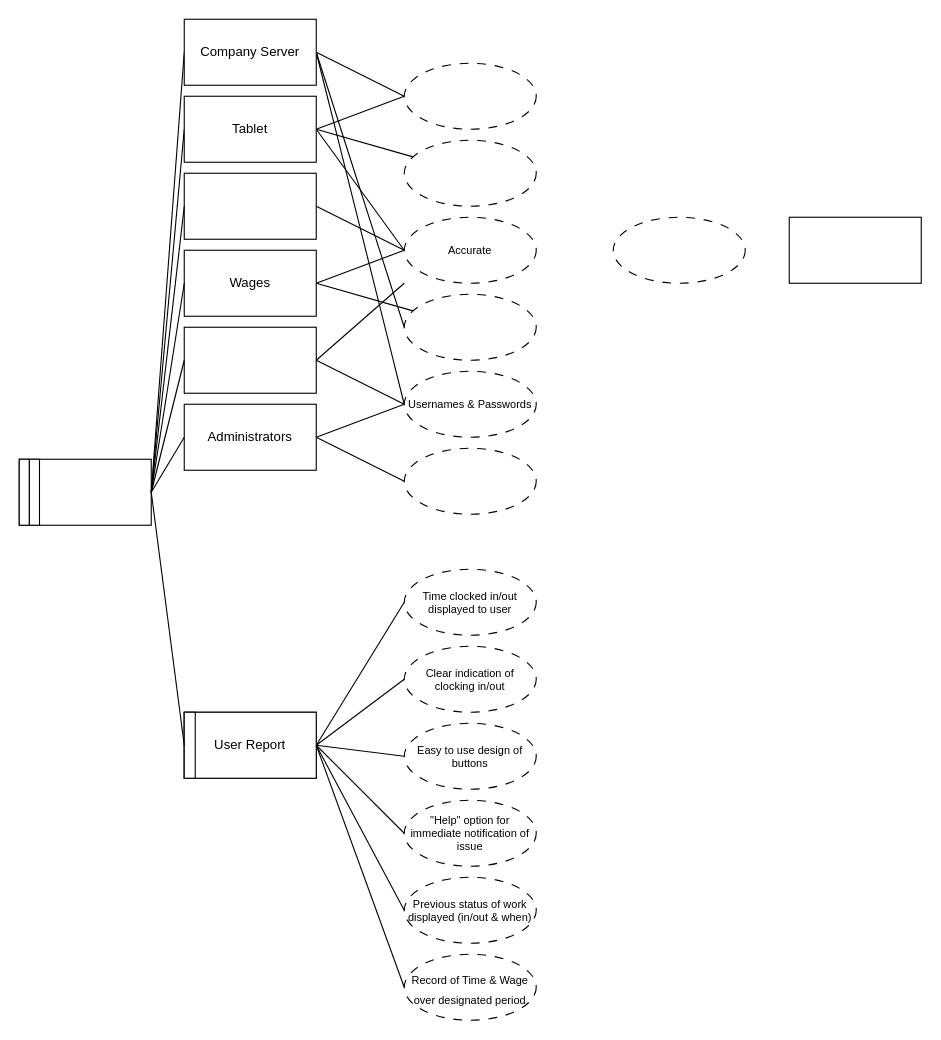
Image size: 941x1040. Some labels were removed from this diagram. Here are the shapes that lost their labels. From the top down, the centre of each, then its label:
At point (469, 95): "System should be capable of software updates".
At point (469, 172): "Easy navigability".
At point (249, 205): "Time Data".
At point (469, 326): "Wage data tied to employee".
At point (249, 359): "Employees".
At point (84, 491): "Time Sheet System".
At point (469, 480): "Higher Clearance".
